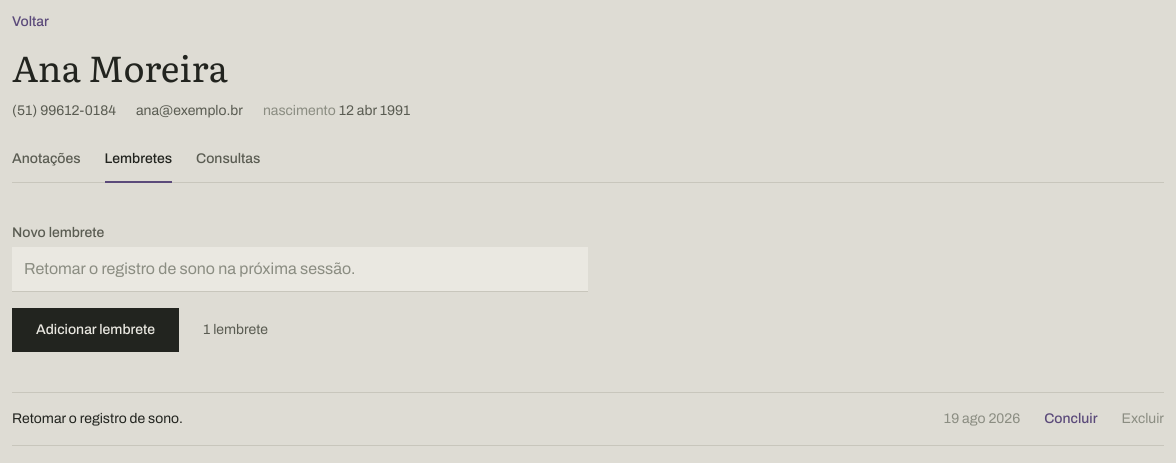
Test: FichaPage › a aba de lembretes e uma rota, e conclui de forma otimista
The image size is (1176, 463).
Click the button "Concluir": {"x": 1071, "y": 419} [1044,409,1098,429]
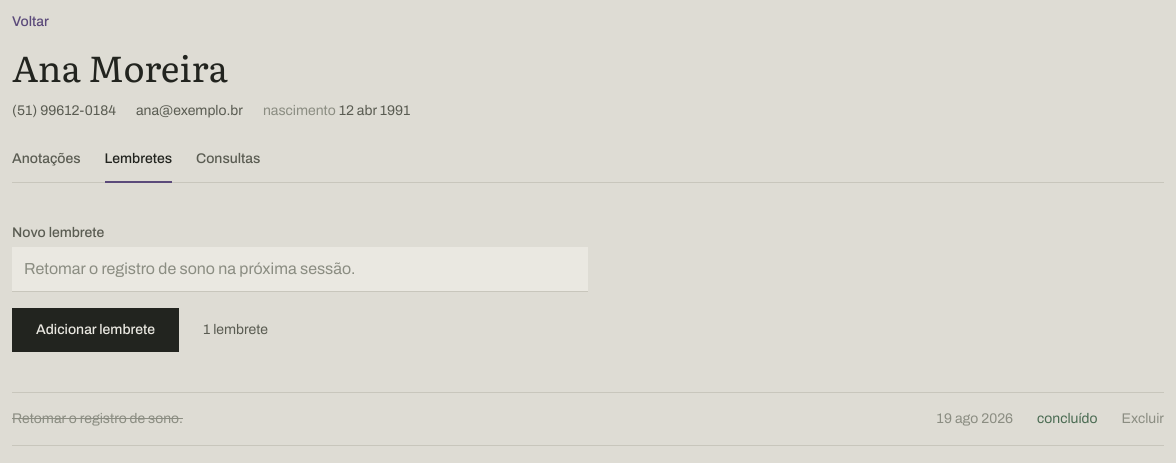
Result: the text "concluído" is shown at [1037,409,1098,429]
